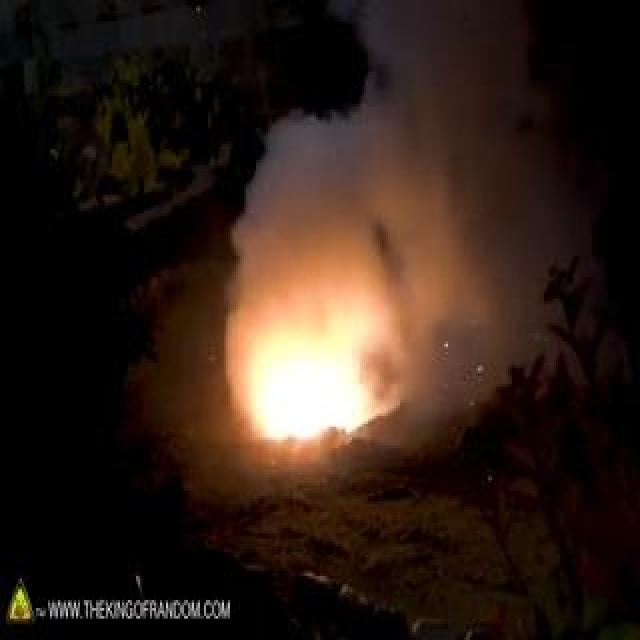Fire: (164, 210, 329, 342)
